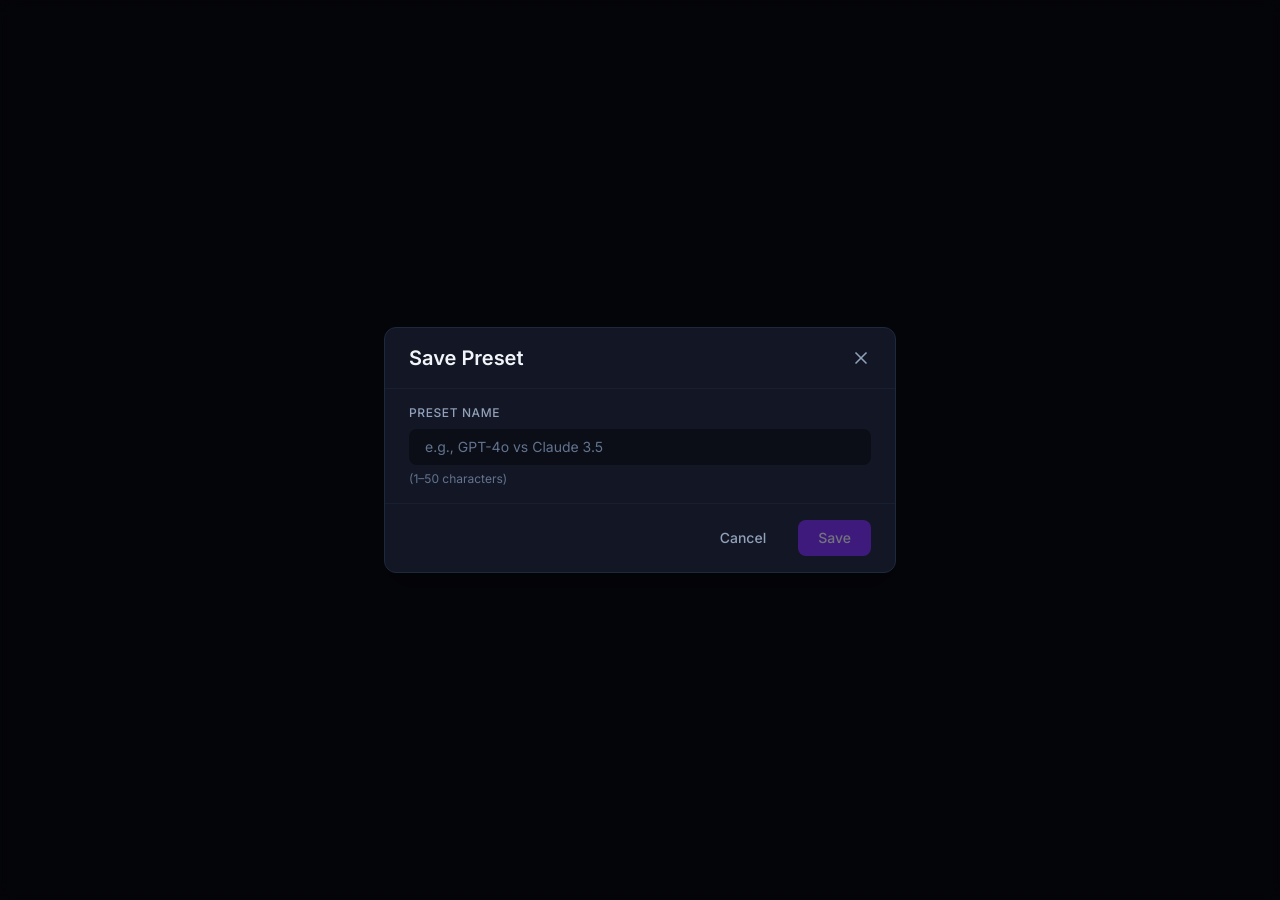
SavePresetDialog › TC-UI-03: Save button enables with valid name
Type "My Preset" into the field with test id "preset-name-input" at (640, 447), box [409,429,871,465]
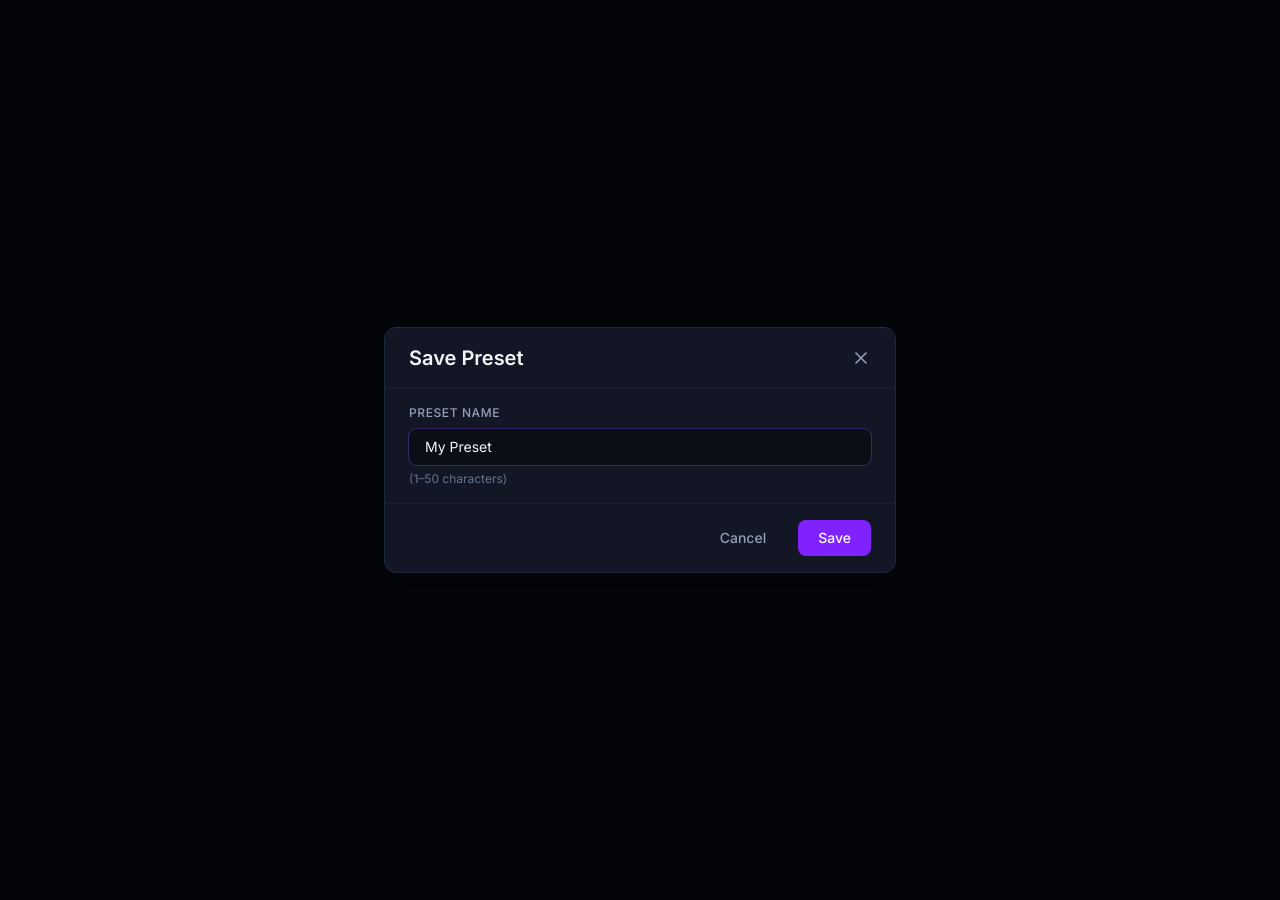
expect the button "Save" is enabled: met, box [798,520,871,556]
